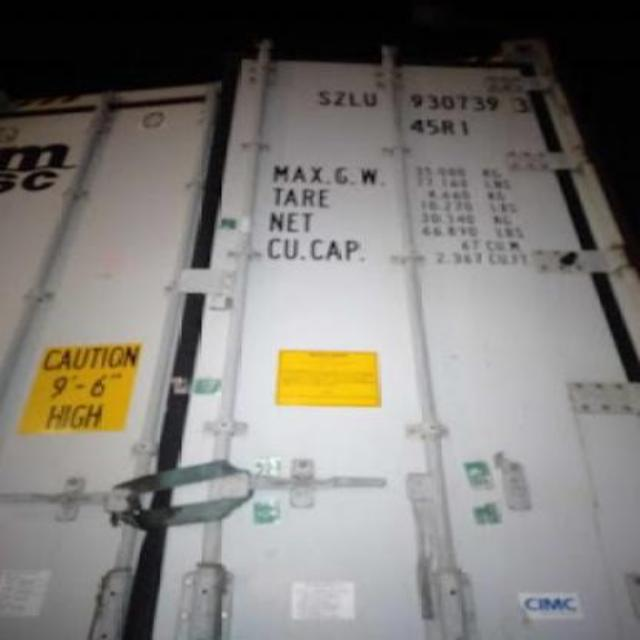0: (440, 93, 456, 111)
3: (470, 92, 490, 112), (514, 96, 530, 114), (426, 95, 439, 108)
7: (456, 93, 469, 111)
9: (488, 94, 502, 110), (412, 92, 424, 108)
L: (350, 90, 362, 112)
S: (316, 87, 334, 107)
U: (364, 89, 378, 107)
Z: (334, 89, 346, 107)
